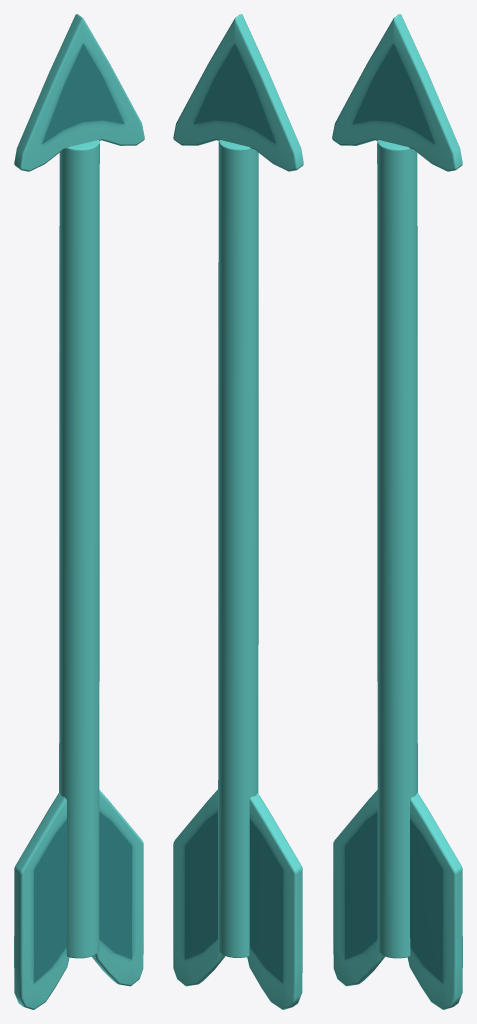
The model's file is Arrow.fbx.
The picture shows the model from 3 angles, left to right: view 1: azimuth 30°, elevation 25°; view 2: azimuth 150°, elevation 25°; view 3: azimuth 330°, elevation 25°; orthographic projection.
Parts seen in each view (by area): view 1: Arrow; view 2: Arrow; view 3: Arrow.
Boxes of the visible parts, bbox=[...] form: Arrow: bbox=[14, 14, 144, 1009]; Arrow: bbox=[173, 14, 303, 1009]; Arrow: bbox=[332, 14, 462, 1009].
Size of the model in its own units: 2.3 by 17.29 by 0.6636.
1 material, 1 textured.
